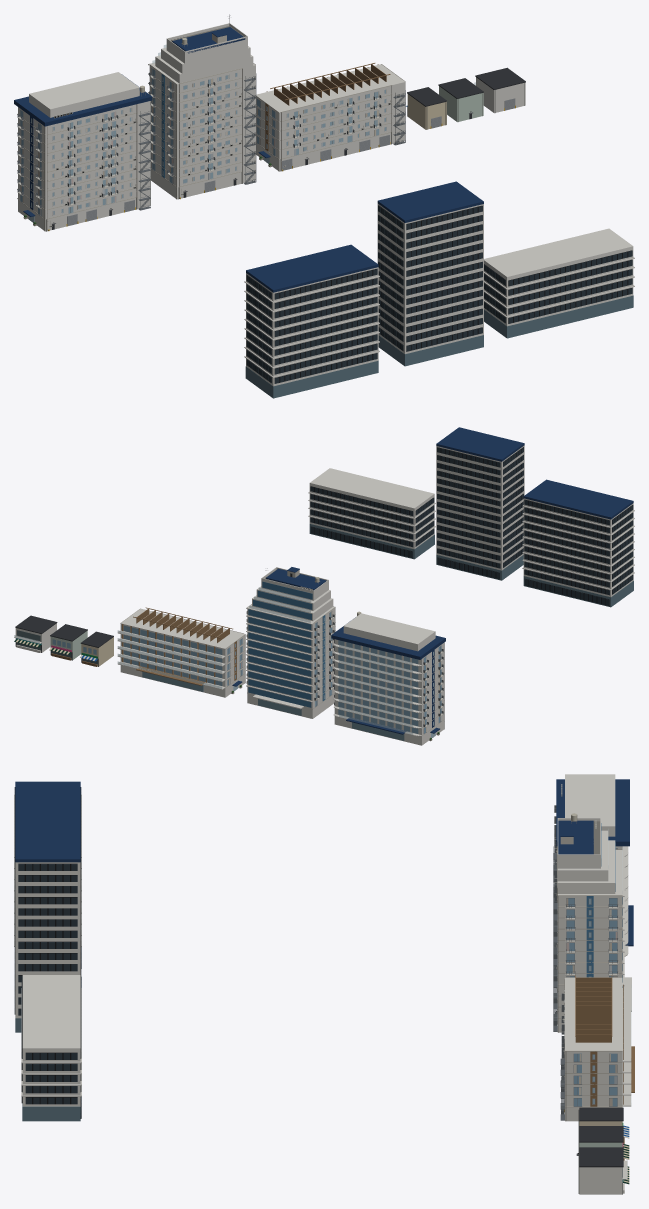
File: bayside.glb
The picture shows the model from 3 angles, top to bottom: view 1: azimuth 30°, elevation 25°; view 2: azimuth 150°, elevation 25°; view 3: azimuth 270°, elevation 25°; orthographic projection. The views are drawn at different scales.
Visible parts, largest first — view 1: bayside_hotel_a_body, bayside_hotel_b_lo_mesh, bayside_hotel_a_lo_mesh, bayside_hotel_b_body, bayside_hotel_c_lo_mesh, bayside_hotel_c_body, bayside_shop_12_body, bayside_shop_10_body, bayside_shop_8_body; view 2: bayside_hotel_a_body, bayside_hotel_b_lo_mesh, bayside_hotel_a_lo_mesh, bayside_hotel_b_body, bayside_hotel_c_lo_mesh, bayside_hotel_c_body, bayside_shop_12_body, bayside_shop_10_body, bayside_shop_8_body; view 3: bayside_hotel_b_lo_mesh, bayside_hotel_b_body, bayside_hotel_c_body, bayside_hotel_c_lo_mesh, bayside_hotel_a_body, bayside_hotel_a_lo_mesh, bayside_shop_12_body, bayside_shop_10_body, bayside_shop_8_body.
Boxes of the visible parts, box(x1,y1,x2,y2) form: bayside_hotel_a_body: box(14, 72, 152, 231); bayside_hotel_b_lo_mesh: box(377, 181, 483, 366); bayside_hotel_a_lo_mesh: box(244, 244, 379, 398); bayside_hotel_b_body: box(148, 14, 256, 199); bayside_hotel_c_lo_mesh: box(484, 228, 634, 338); bayside_hotel_c_body: box(256, 63, 405, 171); bayside_shop_12_body: box(474, 67, 525, 113); bayside_shop_10_body: box(438, 78, 483, 122); bayside_shop_8_body: box(406, 87, 446, 129); bayside_hotel_a_body: box(331, 611, 445, 745); bayside_hotel_b_lo_mesh: box(436, 427, 524, 580); bayside_hotel_a_lo_mesh: box(522, 479, 634, 607); bayside_hotel_b_body: box(246, 567, 335, 718); bayside_hotel_c_lo_mesh: box(308, 468, 435, 559); bayside_hotel_c_body: box(117, 607, 245, 697); bayside_shop_12_body: box(14, 615, 57, 652); bayside_shop_10_body: box(49, 624, 87, 660); bayside_shop_8_body: box(80, 631, 113, 666); bayside_hotel_b_lo_mesh: box(14, 813, 81, 1032); bayside_hotel_b_body: box(553, 813, 631, 1032); bayside_hotel_c_body: box(560, 975, 634, 1121); bayside_hotel_c_lo_mesh: box(21, 975, 81, 1121); bayside_hotel_a_body: box(553, 774, 633, 968); bayside_hotel_a_lo_mesh: box(14, 781, 81, 968); bayside_shop_12_body: box(578, 1147, 629, 1194); bayside_shop_10_body: box(576, 1126, 629, 1160); bayside_shop_8_body: box(578, 1107, 629, 1143).
Bounding box in the file's own units: 188 × 57.32 × 172.
